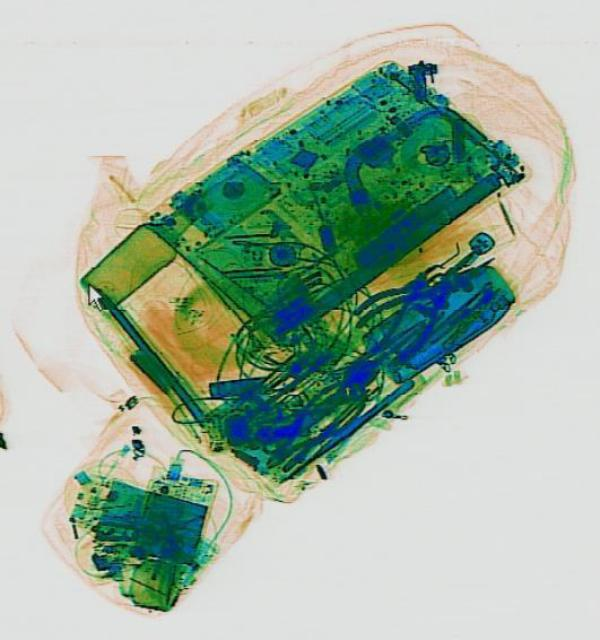Pliers: (349, 225, 506, 371), (244, 370, 368, 484), (349, 244, 452, 344)
